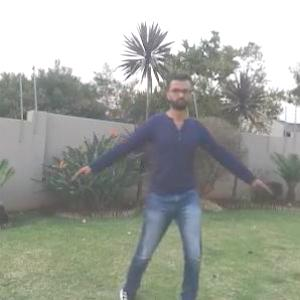land: (98, 92, 229, 254)
